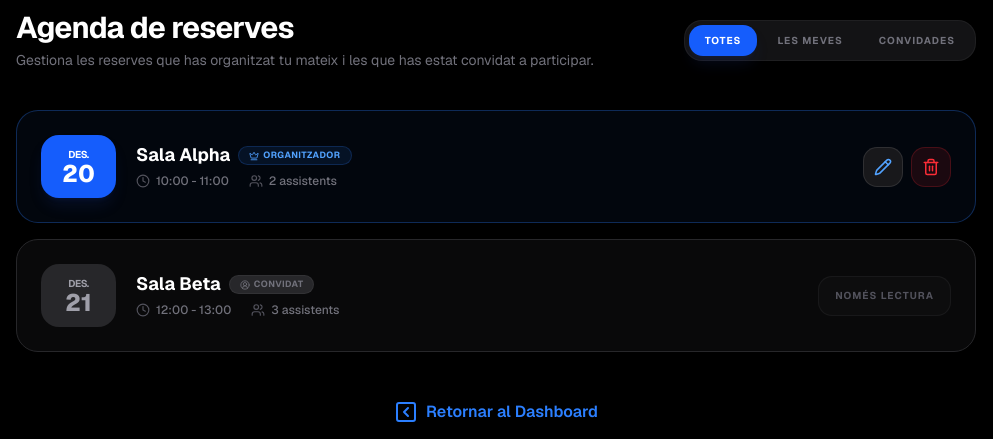
LesMevesReservesPage (Agenda Empleat) › ha de filtrar només les reserves organitzades per mi
Expected: the heading "Sala Alpha" is shown, [136, 144, 230, 167]
Click the button "LES MEVES" at (810, 40), box [761, 24, 859, 56]
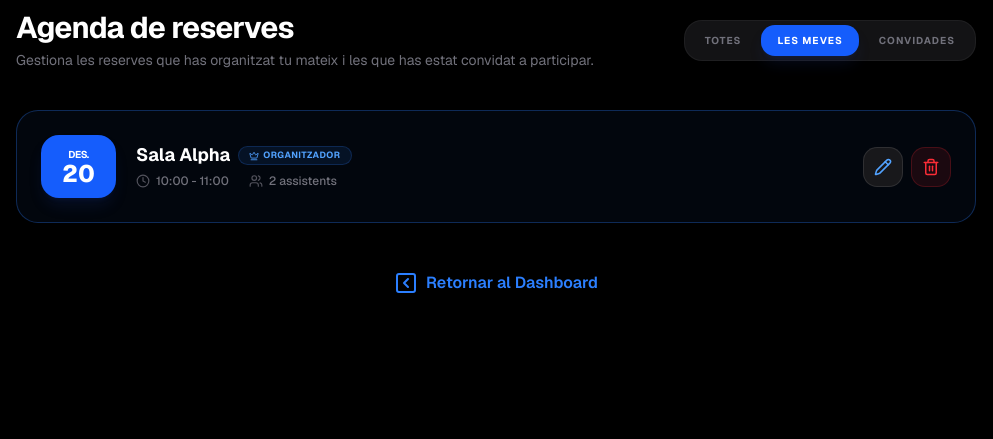
Expected: the heading "Sala Alpha" is shown, [136, 144, 230, 167]
Result: the heading "Sala Beta" is gone
